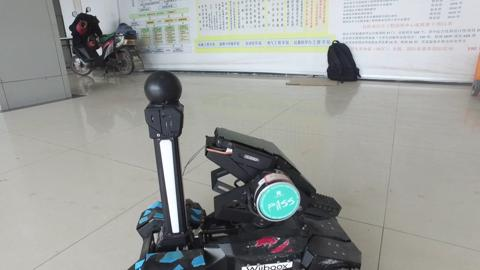bag: (320, 43, 365, 89)
chariot: (108, 76, 361, 270)
